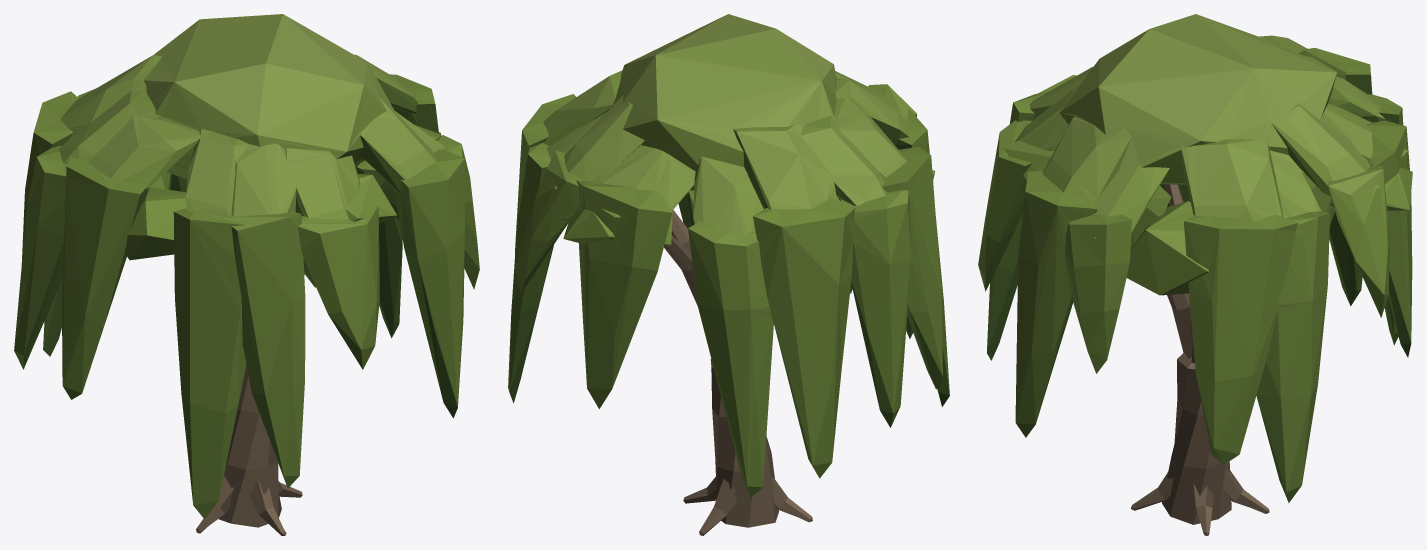
File: zenscape-hero-willow.glb
3 views of the same model, side by side, from view 1: azimuth 30°, elevation 25°; view 2: azimuth 150°, elevation 25°; view 3: azimuth 270°, elevation 25° (orthographic).
Visible parts, largest first — view 1: Crown, Bark; view 2: Crown, Bark; view 3: Crown, Bark.
Boxes of the visible parts, x1=… form: Crown: x1=14, y1=14, x2=479, y2=519; Bark: x1=196, y1=274, x2=304, y2=535; Crown: x1=508, y1=14, x2=949, y2=497; Bark: x1=664, y1=210, x2=812, y2=535; Crown: x1=978, y1=14, x2=1412, y2=502; Bark: x1=1131, y1=184, x2=1269, y2=535.
Bounding box in the file's own units: 5.62 × 6.2 × 5.12.
